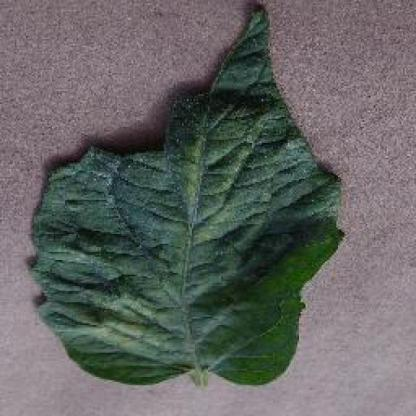Tomato_Spider_Mites: (33, 6, 343, 380)
